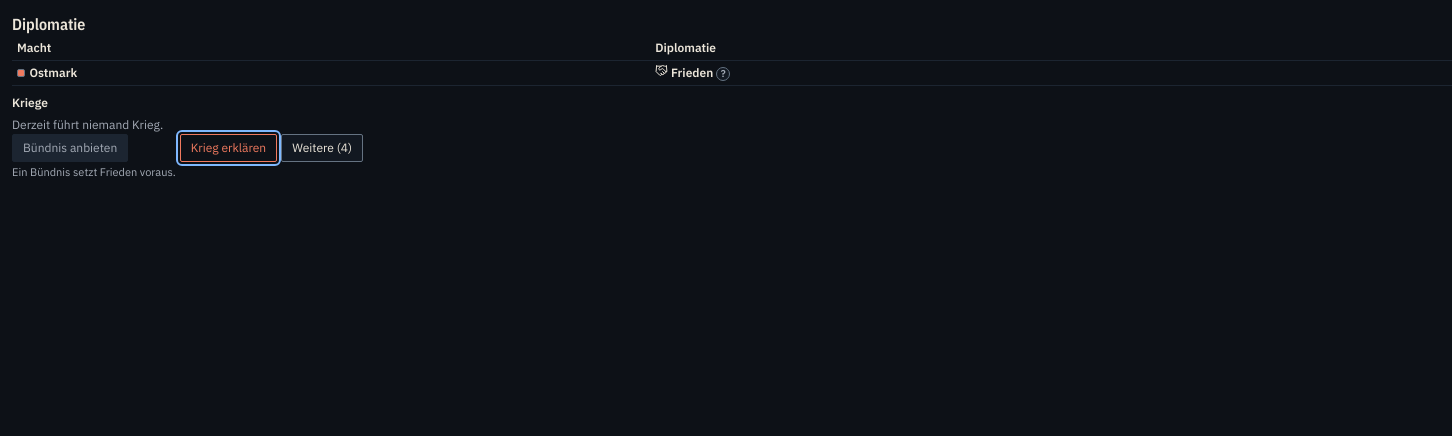
Test: R-UX-03/AK1 Sperrgründe der Verträge gebündelt, Leerzustände als Fließtext › zeigt die Gründe einmal als Sammelzeile statt als Absatz unter jedem Knopf
Click the button "Weitere (4)": (322, 148) [281,134,363,162]
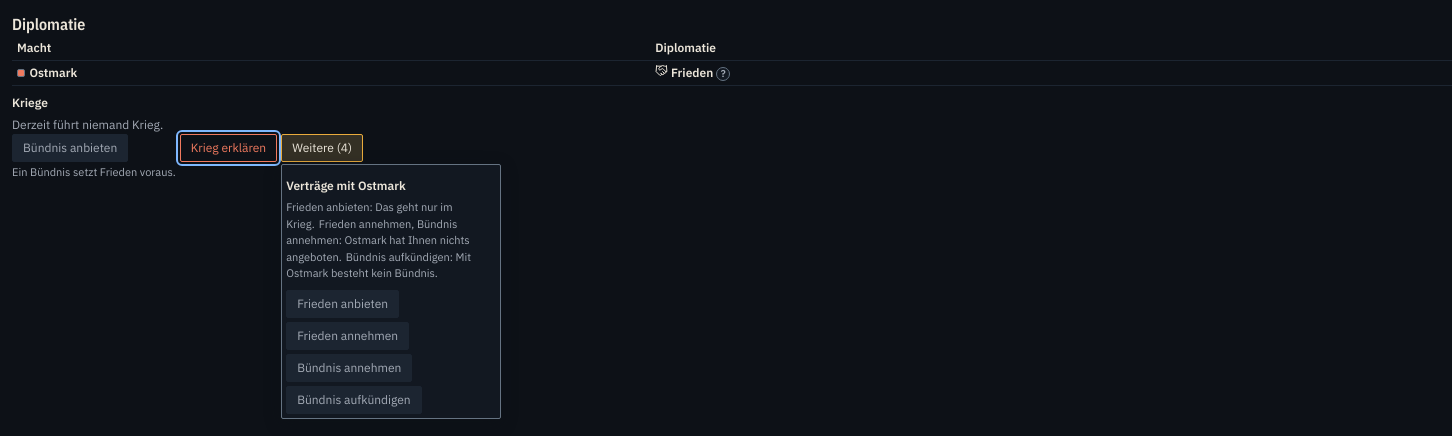
Result: the number of elements with class "group__reasons" is 1 at [286,199,496,282]
Result: the element with class "group__reasons" shows "Das geht nur im Krieg." at [286,200,452,231]
Result: the element with class "group__reasons" shows "Mit Ostmark besteht kein Bündnis." at [286,250,471,280]
